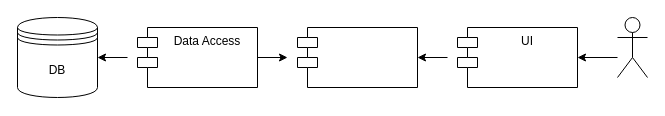
The diagram is 665 pixels wide and 116 high, and some of its shapes have lost their labels. The shapes that lost their labels are listed below. From the top down, each one's centre as x and y in pixels, then its label:
At point (357, 57): "Business logic".
At point (632, 47): "User".
